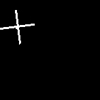single_crochet: (0, 10, 33, 43)
